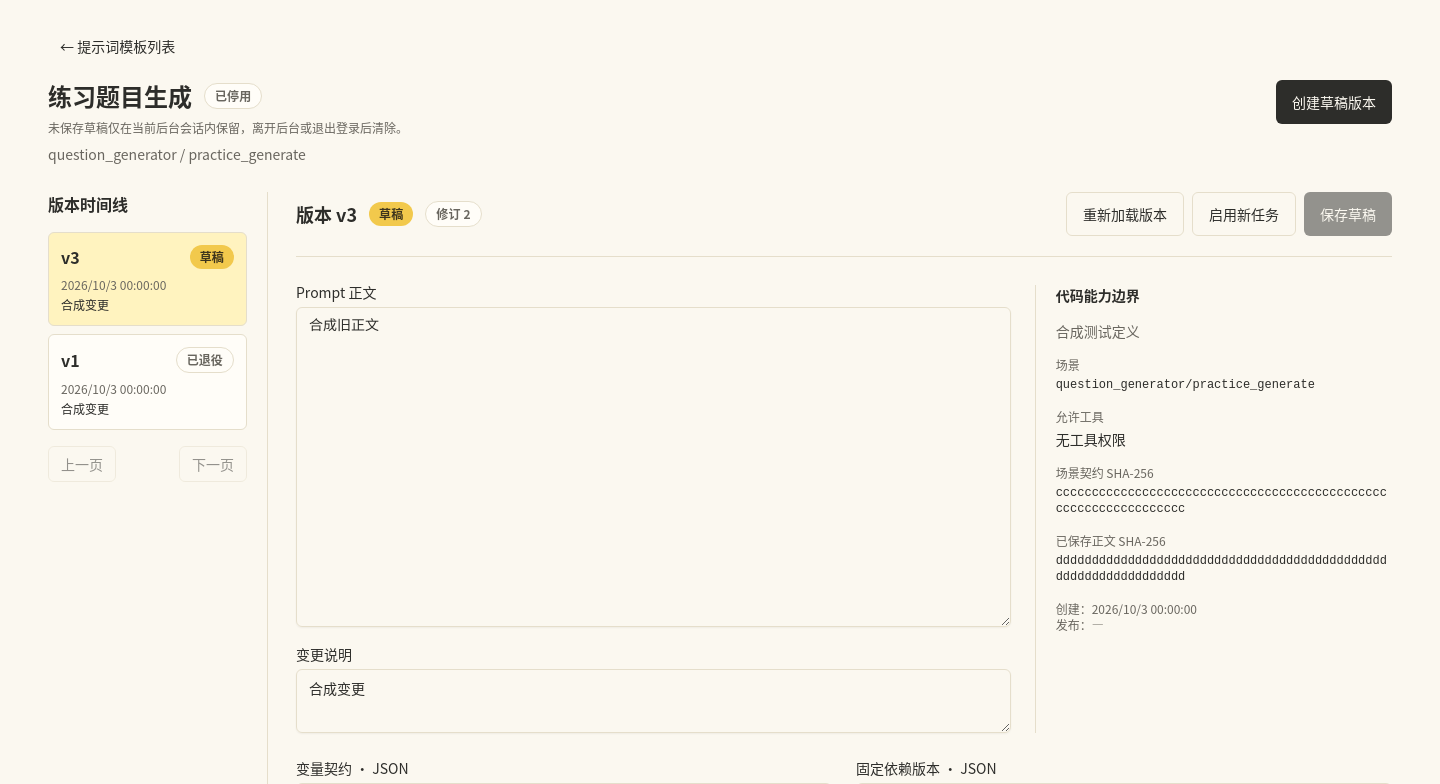
Scenario: 切换版本前提示未保存草稿；确认后读取真正历史版本且旧正文回收
Replace the text in the text box labelled "Prompt 正文" with "未保存的合成编辑" at (653, 467), box [296, 307, 1011, 627]
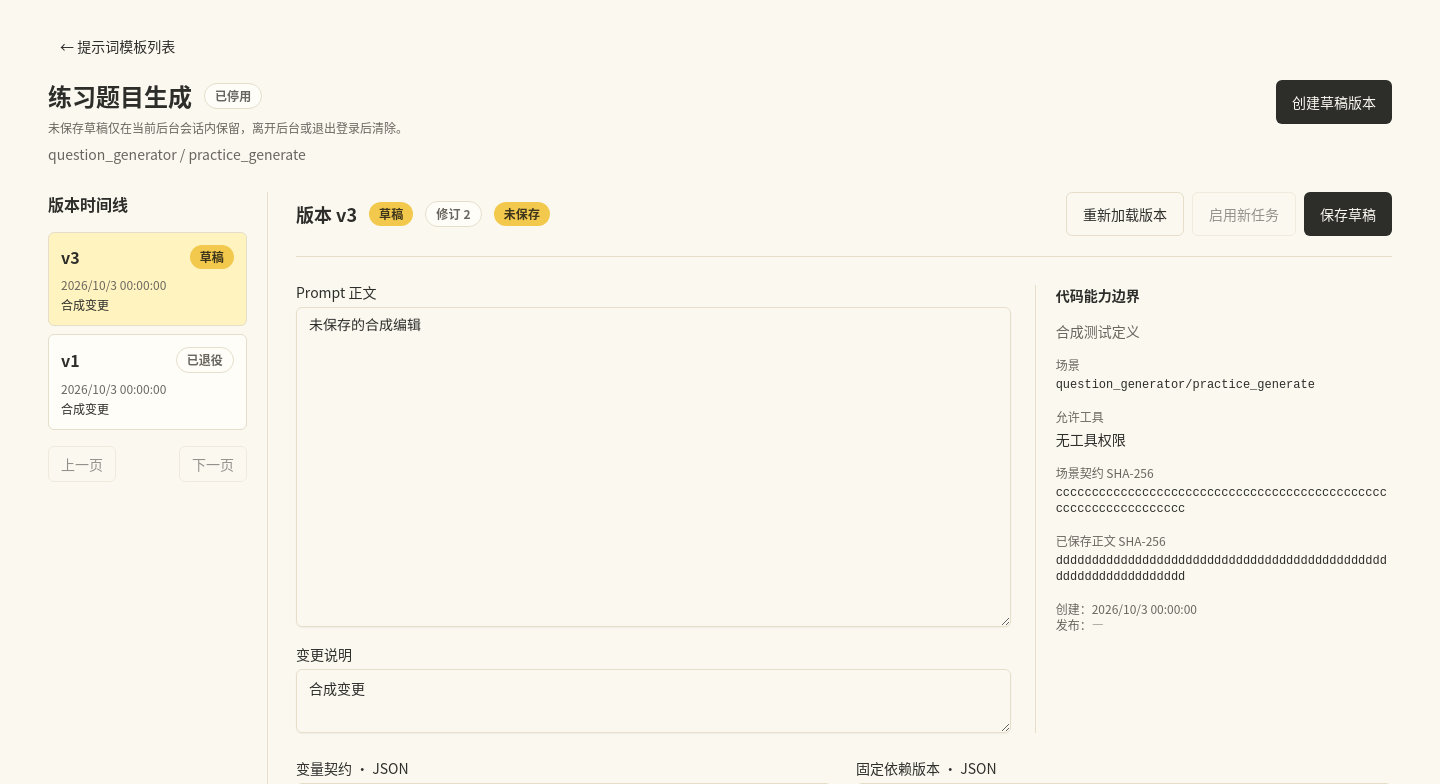
Click the button "v1 已退役 2026/10/3 00:00:00 合成变更".
click(148, 382)  # box [48, 334, 247, 430]
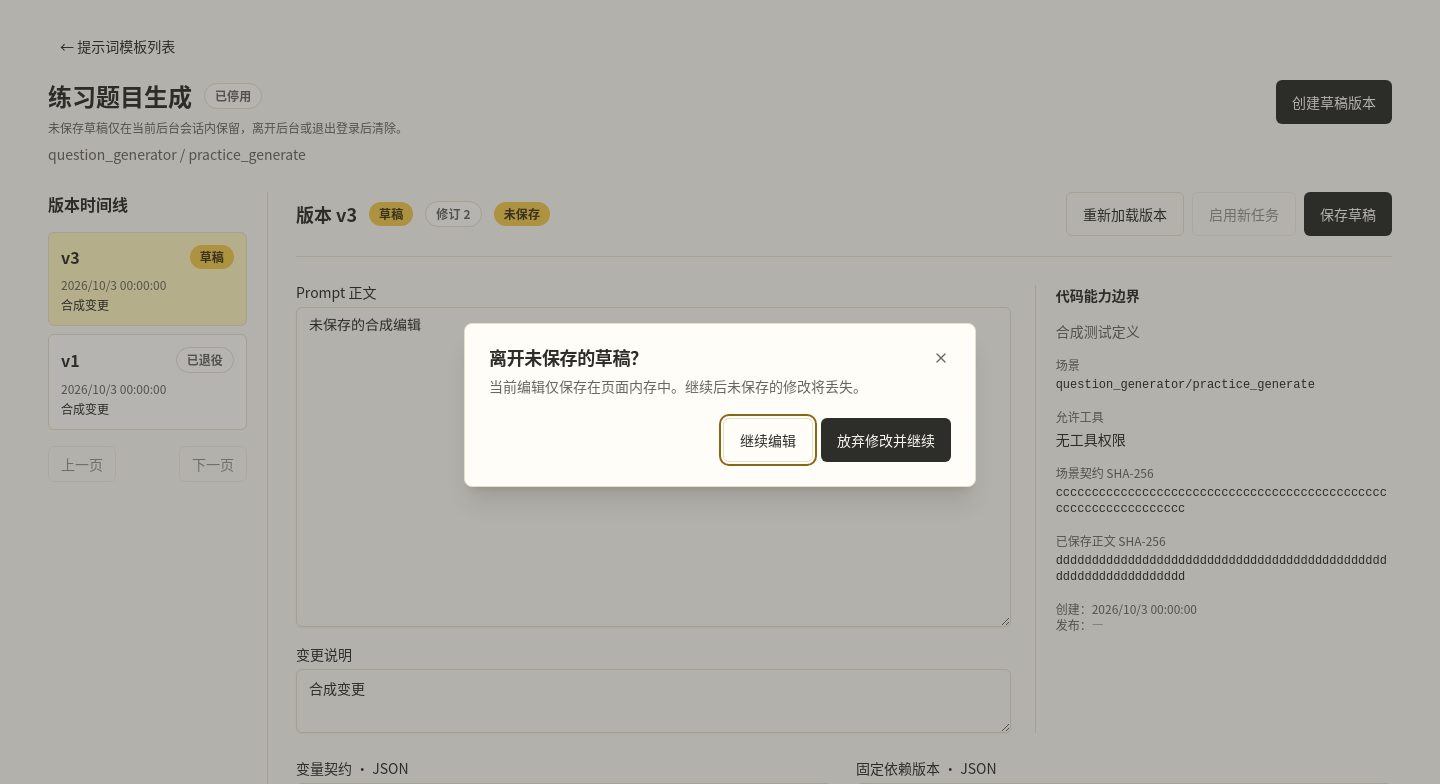
Check: the dialog shows "离开未保存的草稿", box [489, 344, 648, 370]
Click the button "继续编辑".
click(768, 440)  # box [723, 418, 813, 462]
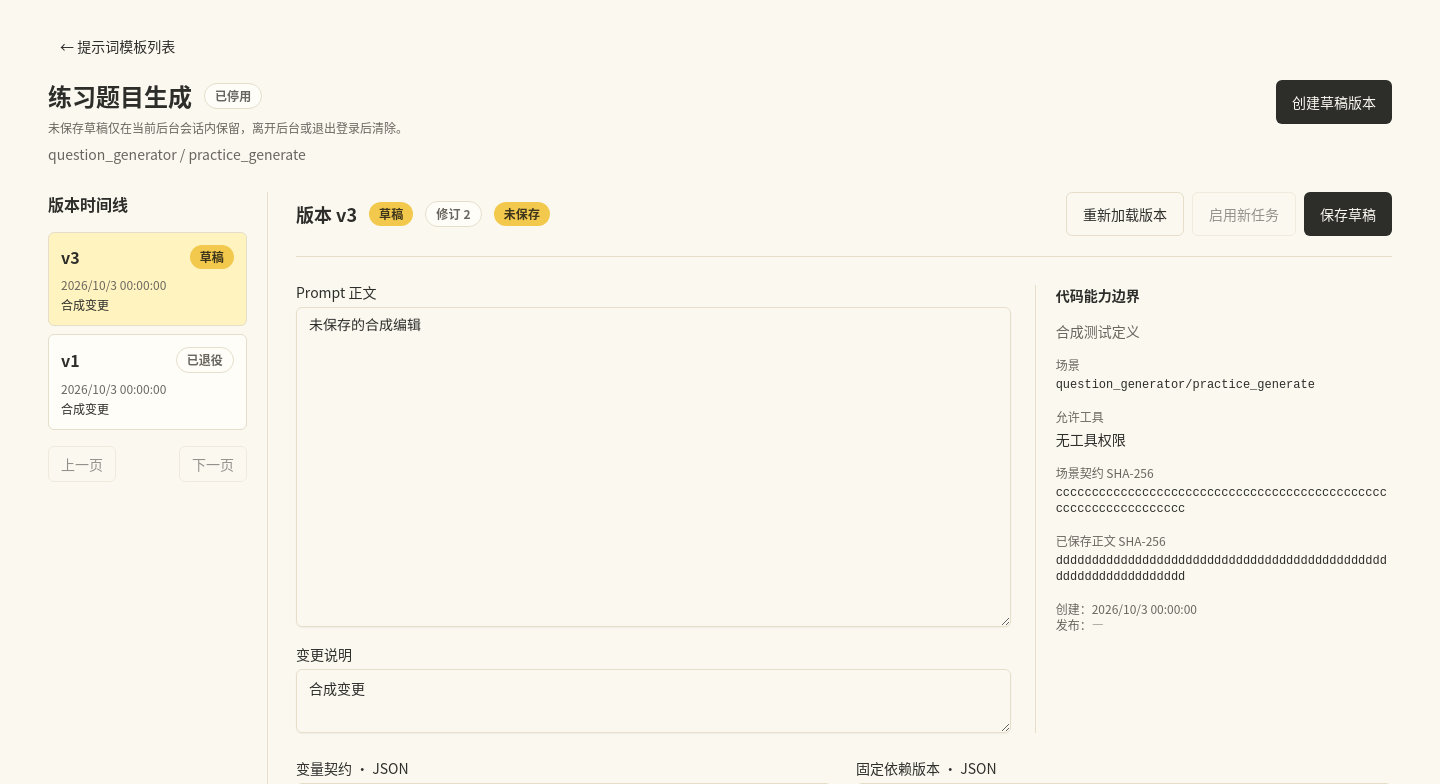
Click the button "v1 已退役 2026/10/3 00:00:00 合成变更".
click(148, 382)  # box [48, 334, 247, 430]
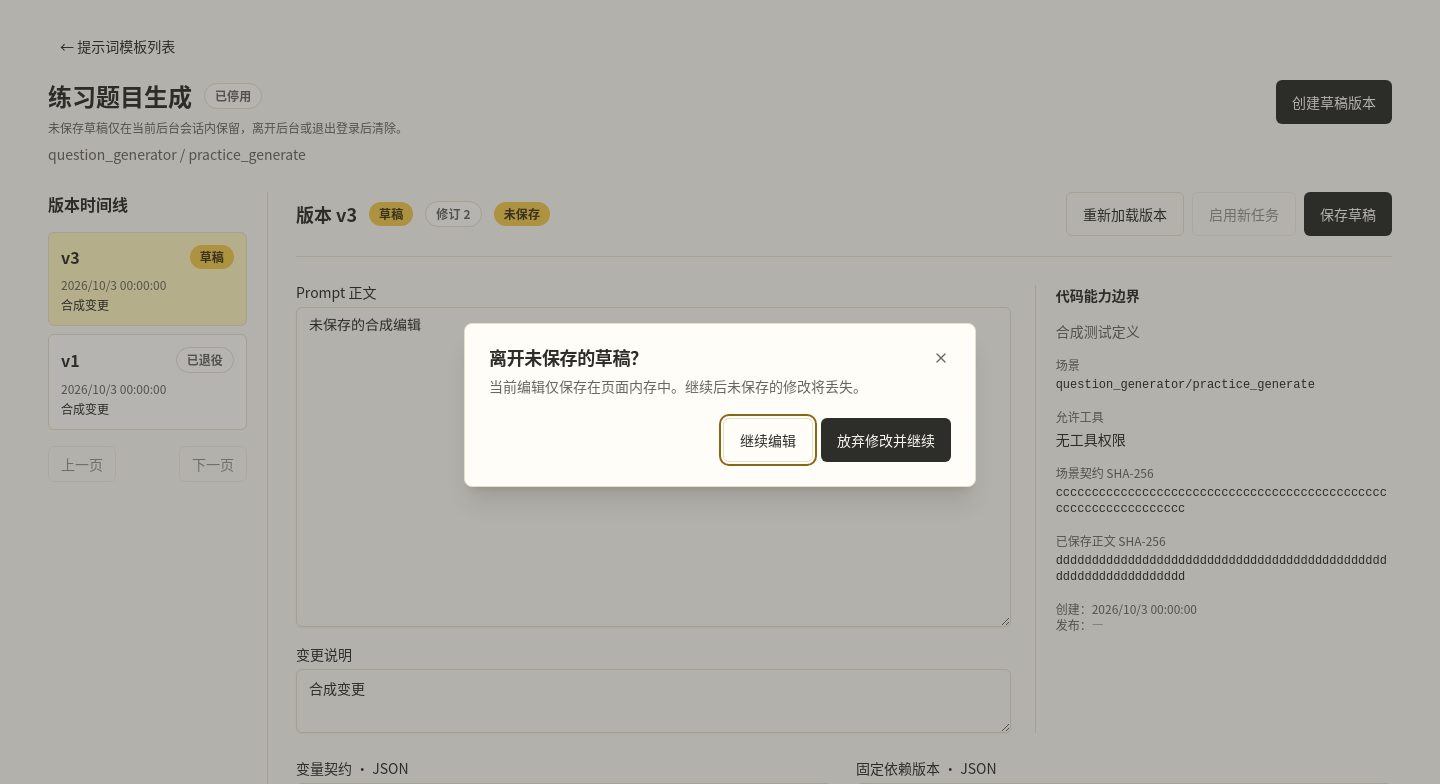
Click the button "放弃修改并继续".
click(886, 440)  # box [821, 418, 951, 462]
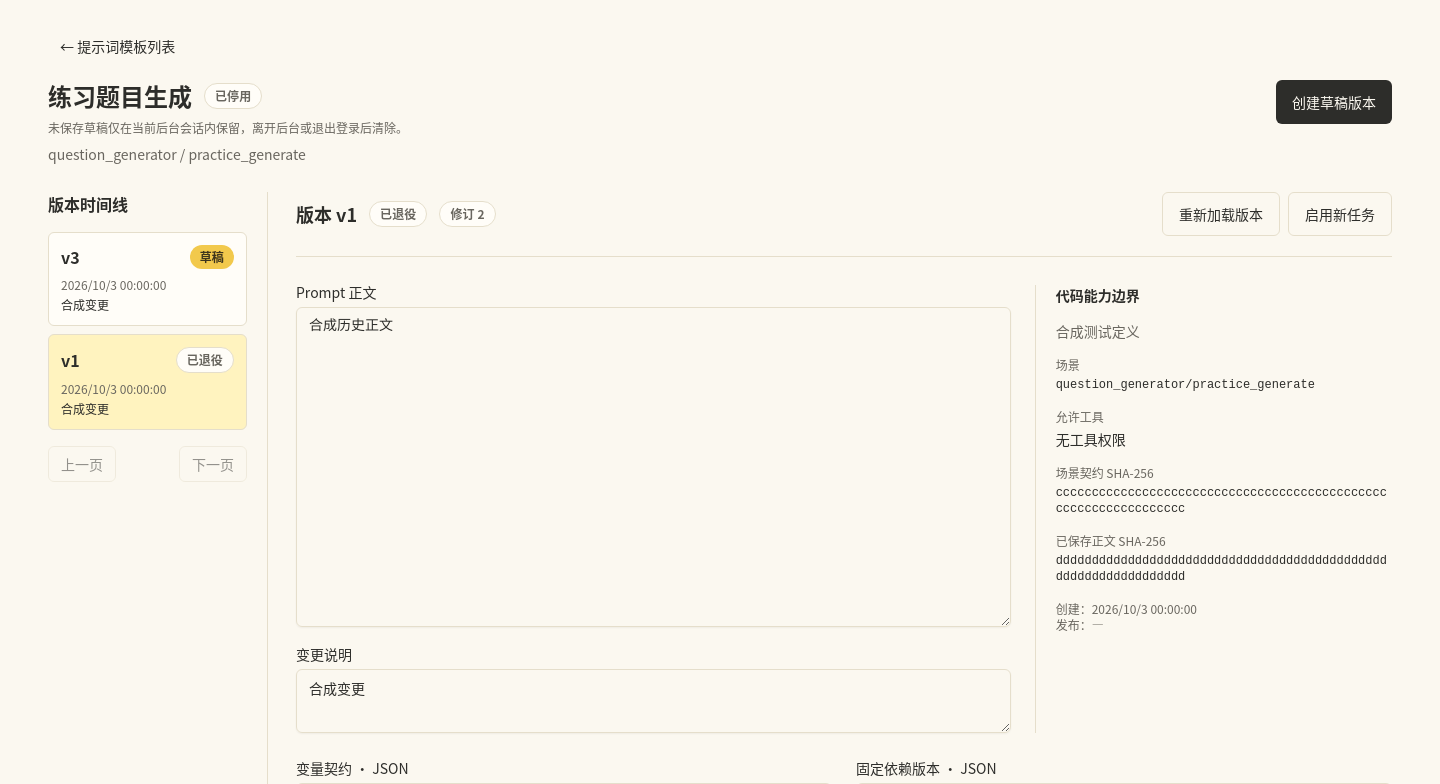
Check: the text box labelled "Prompt 正文" holds "合成历史正文", box [296, 307, 1011, 627]
